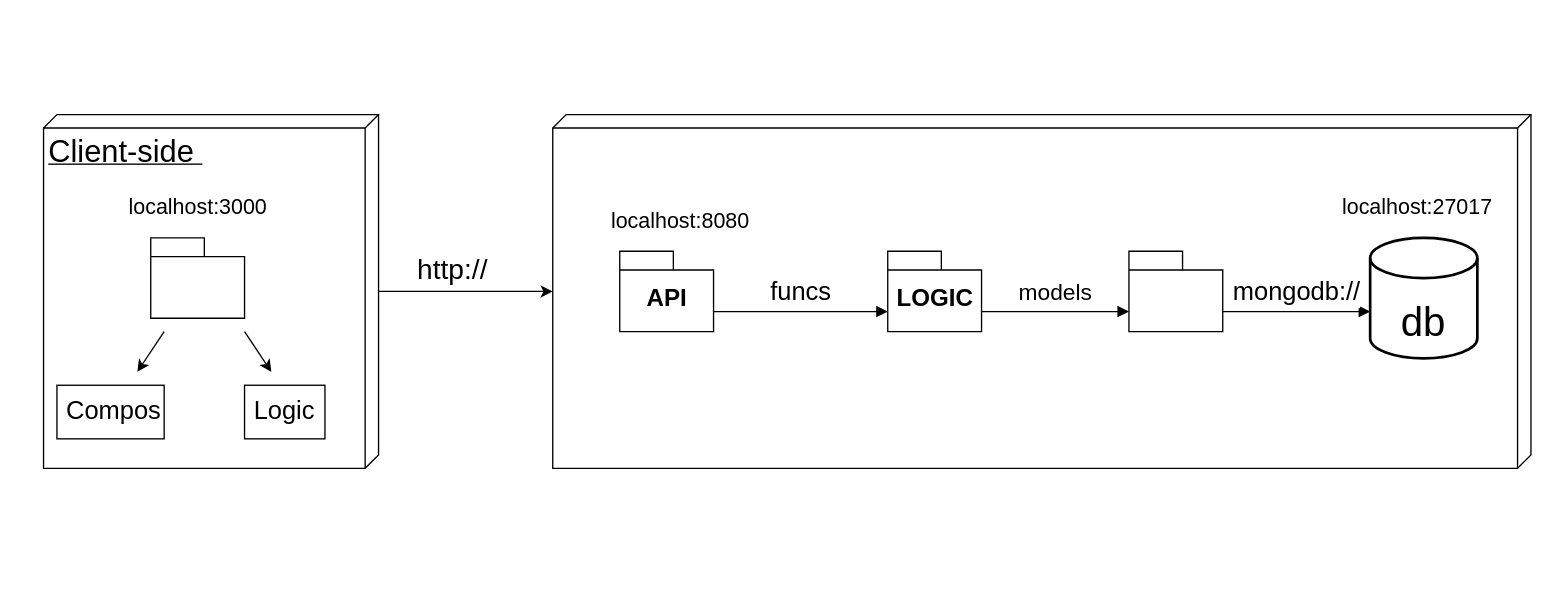
Image size: 1566x595. Some labels were removed from this diagram. The shapes that lost their labels are listed below. From the top down, each one's box as (x1, y1, x2, y2) in pixels, then its label:
(149, 237, 245, 318): APP
(551, 113, 1531, 468): Server-side
(1128, 250, 1223, 332): DATA
